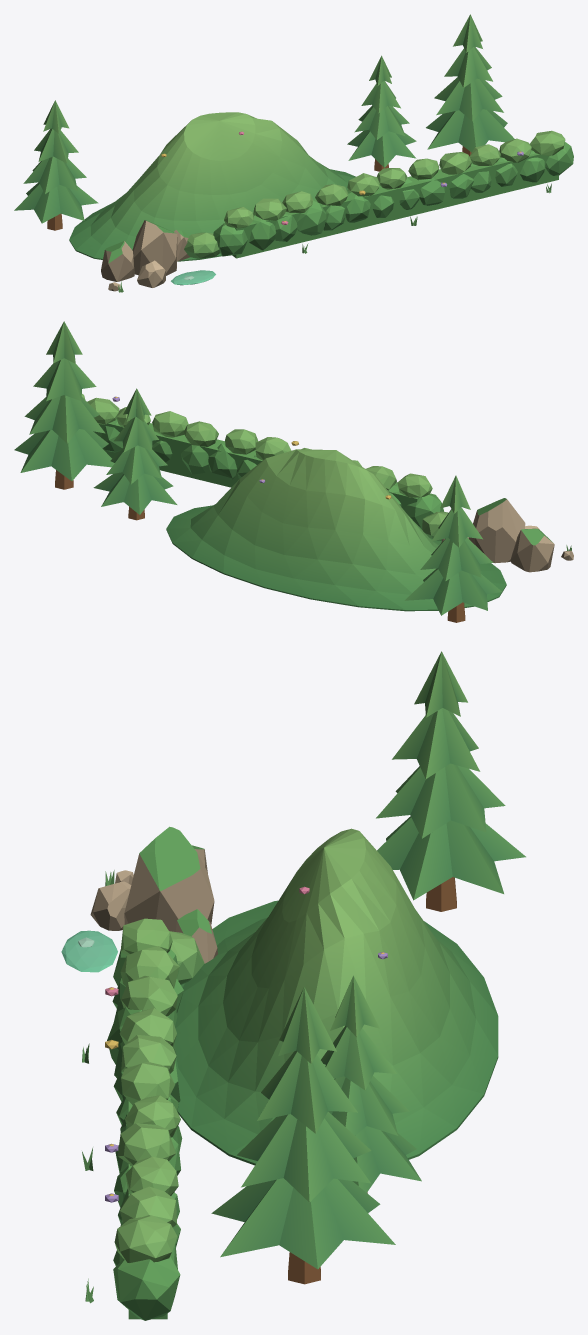
Rendered from ranch_border_chunk_e_m.fbx.
3 views of the same model, one above another, from view 1: azimuth 30°, elevation 25°; view 2: azimuth 150°, elevation 25°; view 3: azimuth 270°, elevation 25° (orthographic). The views are drawn at different scales.
Visible parts, largest first — view 1: ranch_border_chunk_e_m; view 2: ranch_border_chunk_e_m; view 3: ranch_border_chunk_e_m.
Part boxes in pixels (x1=…): ranch_border_chunk_e_m: x1=14, y1=14, x2=573, y2=292; ranch_border_chunk_e_m: x1=14, y1=321, x2=573, y2=622; ranch_border_chunk_e_m: x1=61, y1=651, x2=525, y2=1320.
Size of the model in its own units: 56.4 by 16.45 by 23.8.
